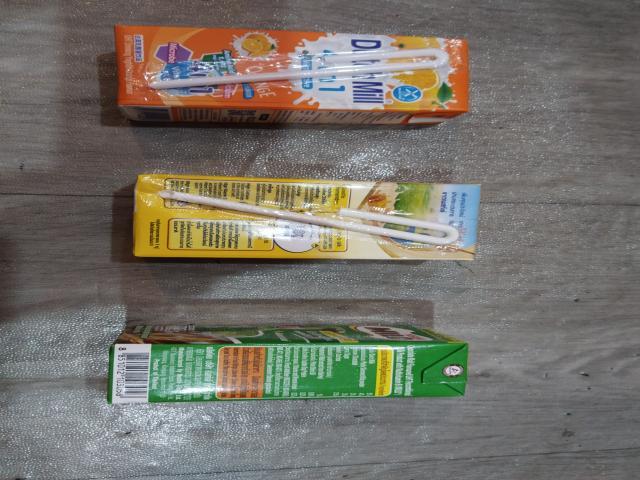drink_box: (107, 18, 485, 128), (124, 171, 498, 268), (101, 320, 490, 411)
